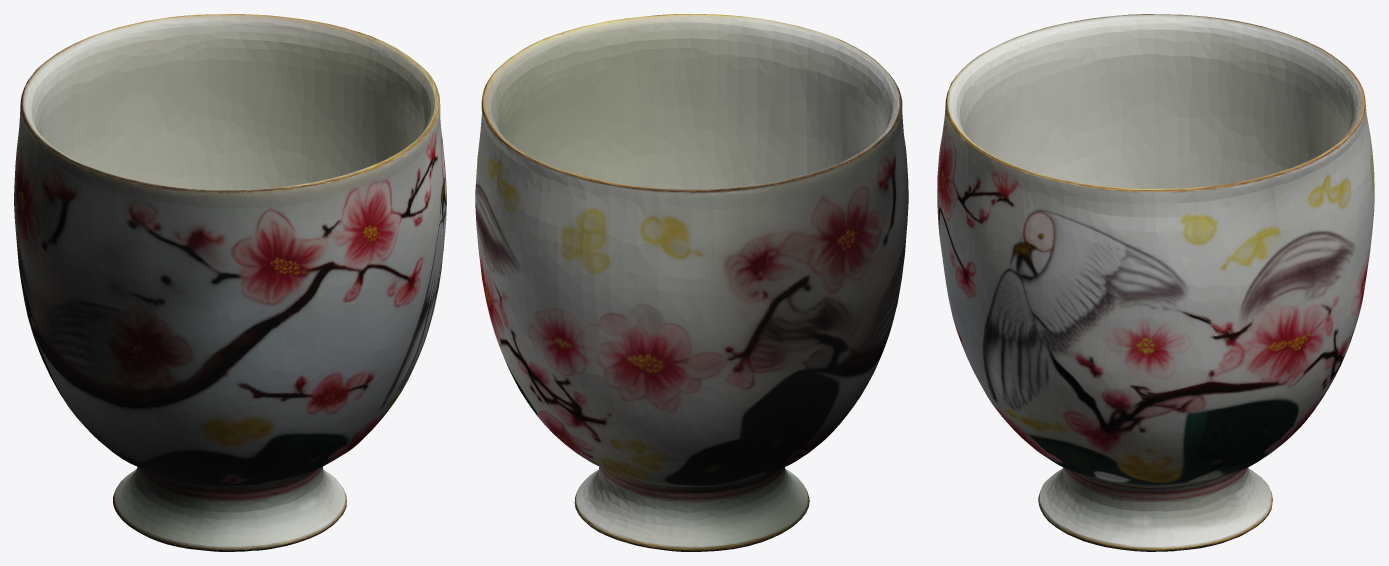
File: porcelain-egg-cup-japanese.jpeg.glb
The picture shows the model from 3 angles, left to right: view 1: azimuth 30°, elevation 25°; view 2: azimuth 150°, elevation 25°; view 3: azimuth 270°, elevation 25°; orthographic projection.
Visible parts, largest first — view 1: world; view 2: world; view 3: world.
Part boxes in pixels (x1=…): world: x1=14, y1=14, x2=446, y2=551; world: x1=475, y1=14, x2=908, y2=551; world: x1=937, y1=14, x2=1374, y2=551.
Size of the model in its own units: 0.9845 by 0.9971 by 0.9822.
1 material, 1 textured.
